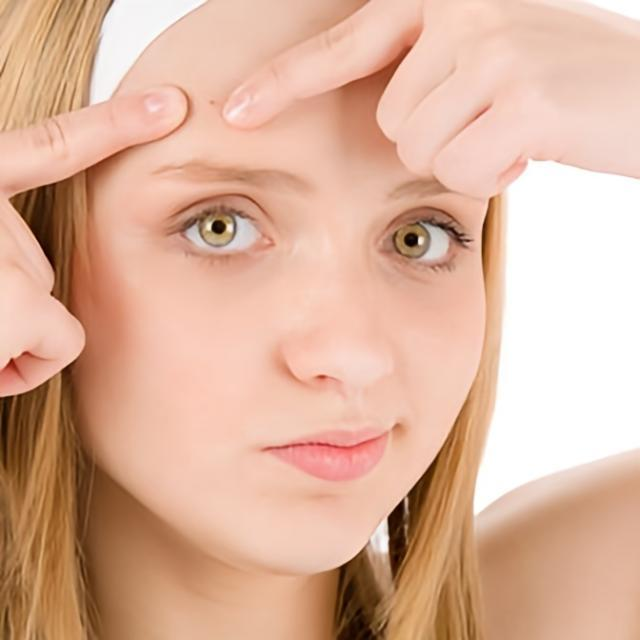content: (68, 0, 488, 579)
